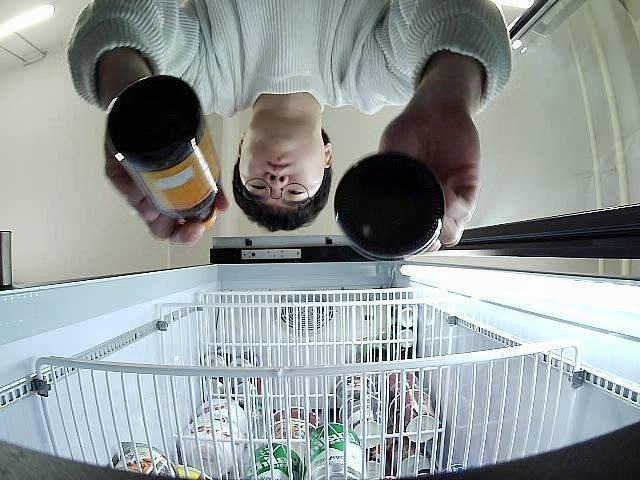17_vita500: (106, 75, 220, 230), (334, 152, 446, 260)
